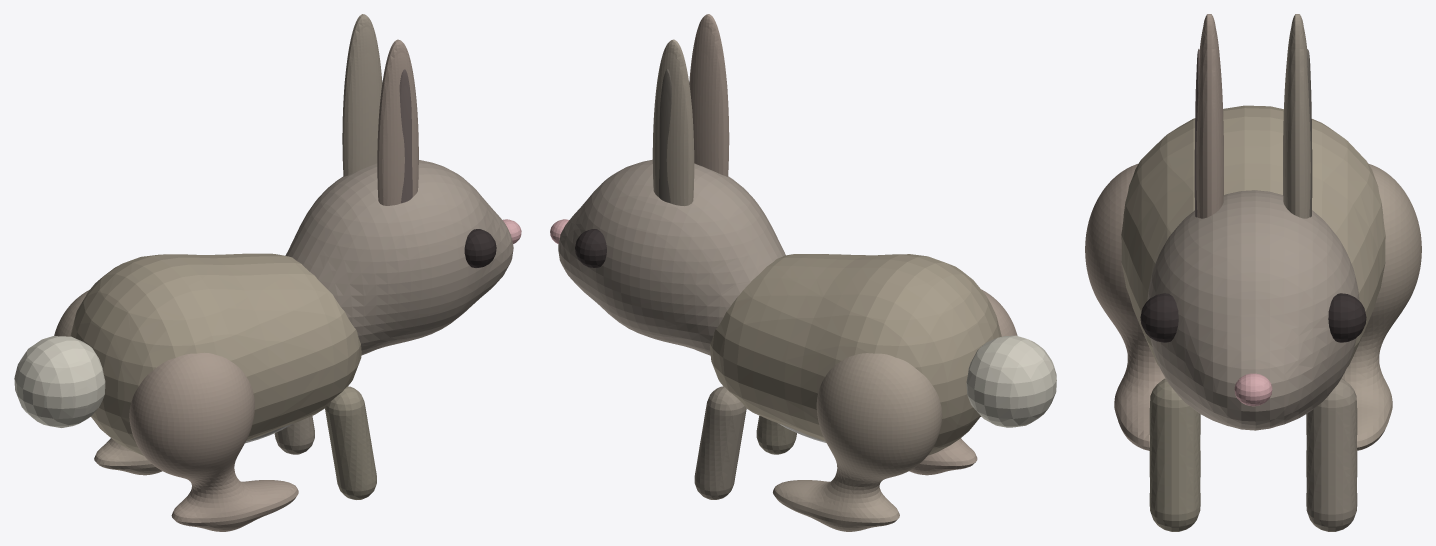
Rendered from rabbit.glb.
3 renders of one model, left to right at view 1: azimuth 30°, elevation 25°; view 2: azimuth 150°, elevation 25°; view 3: azimuth 270°, elevation 25°, orthographic. The views are drawn at different scales.
Visible parts, largest first — view 1: body|torso, head|skull, legRR|thigh, tail|scut, earL|ear, earR|ear, legFR|leg, legRL|thigh, earR|inner, legFL|leg, head|eye1; view 2: body|torso, head|skull, legRL|thigh, tail|scut, earR|ear, earL|ear, legFL|leg, legRR|thigh, earL|inner, legFR|leg, head|eye-1; view 3: head|skull, body|torso, legRR|thigh, legRL|thigh, legFR|leg, legFL|leg, earR|ear, earL|ear, head|eye-1, head|eye1, head|nose, earR|inner (+1 smaller).
Part boxes in pixels (box(x1,y1,x2,y2)): body|torso: box(70, 253, 361, 455); head|skull: box(285, 160, 513, 355); legRR|thigh: box(129, 352, 298, 531); tail|scut: box(14, 336, 105, 427); earL|ear: box(342, 14, 382, 176); earR|ear: box(377, 39, 418, 205); legFR|leg: box(325, 386, 376, 499); legRL|thigh: box(54, 290, 162, 475); earR|inner: box(399, 69, 412, 203); legFL|leg: box(274, 416, 314, 454); head|eye1: box(464, 229, 496, 267); body|torso: box(709, 254, 1001, 455); head|skull: box(558, 159, 785, 355); legRL|thigh: box(773, 353, 942, 531); tail|scut: box(966, 335, 1056, 427); earR|ear: box(689, 14, 729, 176); earL|ear: box(652, 39, 694, 205); legFL|leg: box(694, 386, 746, 499); legRR|thigh: box(909, 289, 1017, 475); earL|inner: box(659, 69, 671, 203); legFR|leg: box(756, 415, 796, 454); head|eye-1: box(575, 229, 606, 267); head|skull: box(1147, 190, 1359, 430); body|torso: box(1121, 105, 1385, 366); legRR|thigh: box(1085, 163, 1165, 450); legRL|thigh: box(1341, 163, 1421, 450); legFR|leg: box(1149, 378, 1200, 531); legFL|leg: box(1306, 378, 1357, 531); earR|ear: box(1194, 14, 1223, 218); earL|ear: box(1283, 14, 1310, 218); head|eye-1: box(1328, 293, 1366, 342); head|eye1: box(1140, 293, 1178, 342); head|nose: box(1234, 373, 1272, 406); earR|inner: box(1194, 49, 1199, 217).
Size of the model in its own units: 0.743 by 0.619 by 0.344.
